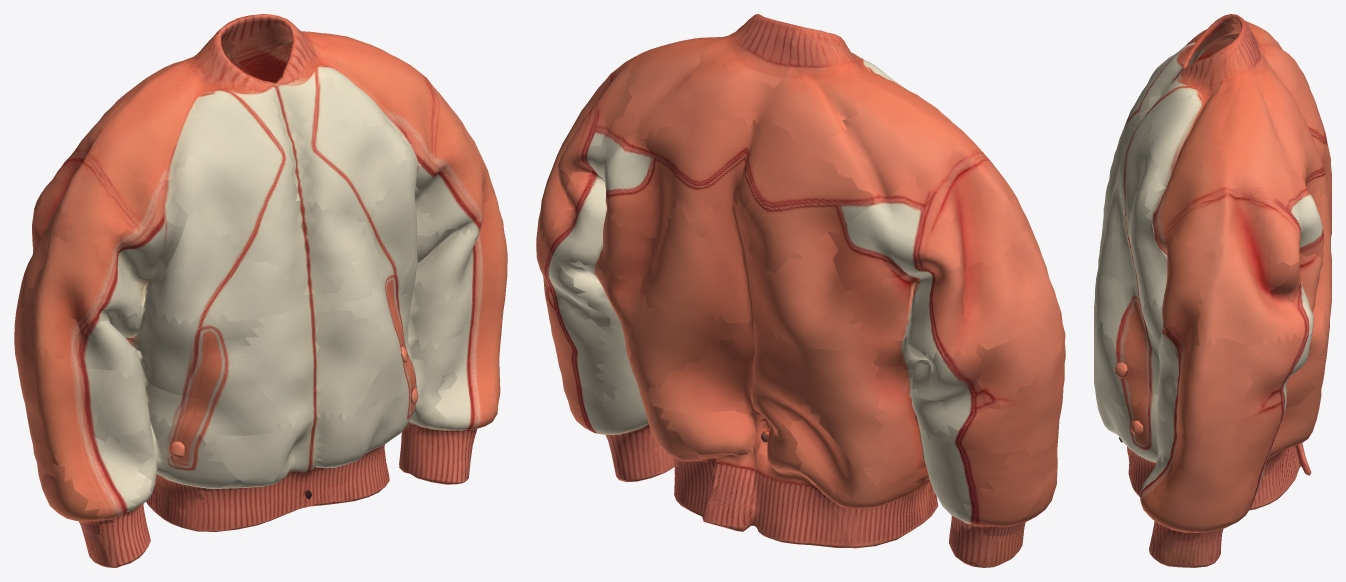
The model's file is hub_ornament_jacket.glb.
3 renders of one model, left to right at view 1: azimuth 30°, elevation 25°; view 2: azimuth 150°, elevation 25°; view 3: azimuth 270°, elevation 25°, orthographic. The views are drawn at different scales.
Size of the model in its own units: 1.9 by 1.84 by 0.865.
Materials: 1 (1 with a texture image).
